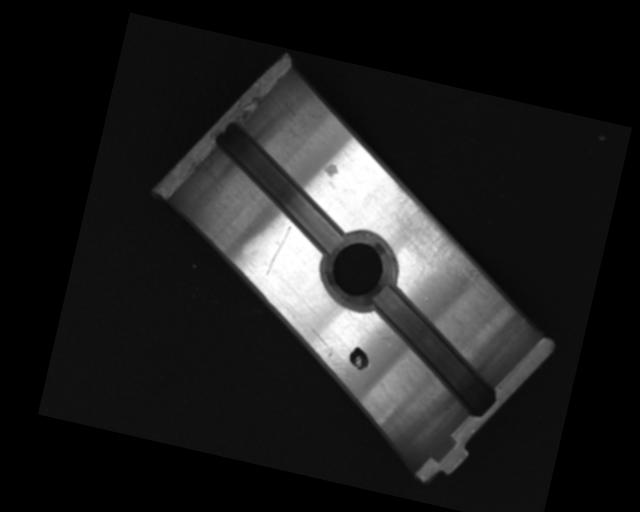blot: (345, 344, 372, 373)
bruise: (321, 160, 341, 179)
gap: (196, 119, 362, 257), (351, 282, 514, 418)
hole: (311, 223, 405, 317)
nick: (263, 222, 291, 279)
scratch: (373, 180, 509, 293)
